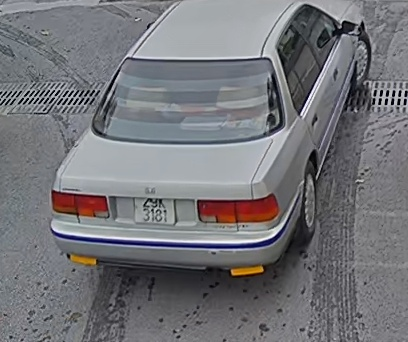vehicle plate: (132, 194, 177, 230)
